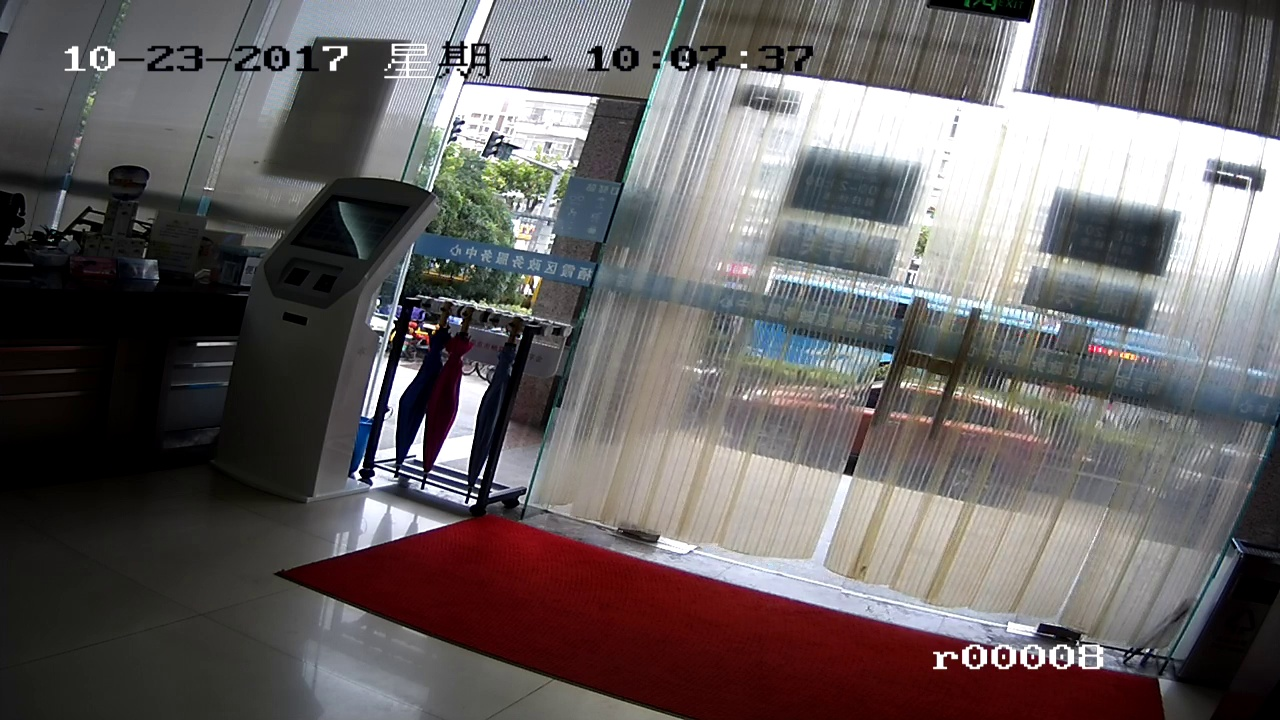billboard: (789, 146, 922, 225), (1058, 200, 1169, 275)
monitor: (294, 189, 399, 272)
